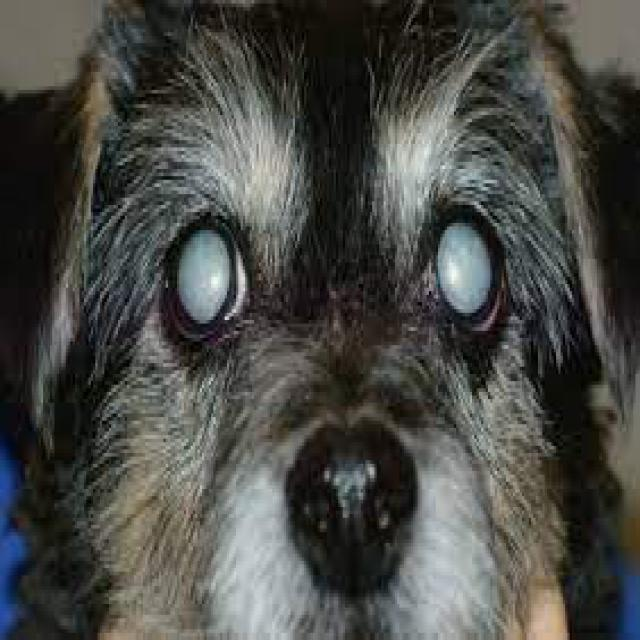eye: (157, 203, 259, 355), (428, 196, 511, 344)
